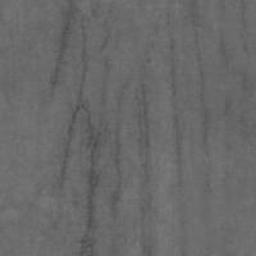Water spot: (49, 0, 131, 256), (165, 17, 189, 256), (188, 0, 215, 196), (133, 54, 157, 256)
